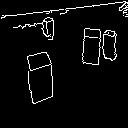cube: (22, 48, 59, 109), (75, 21, 102, 69), (103, 25, 122, 63), (39, 15, 59, 40)
